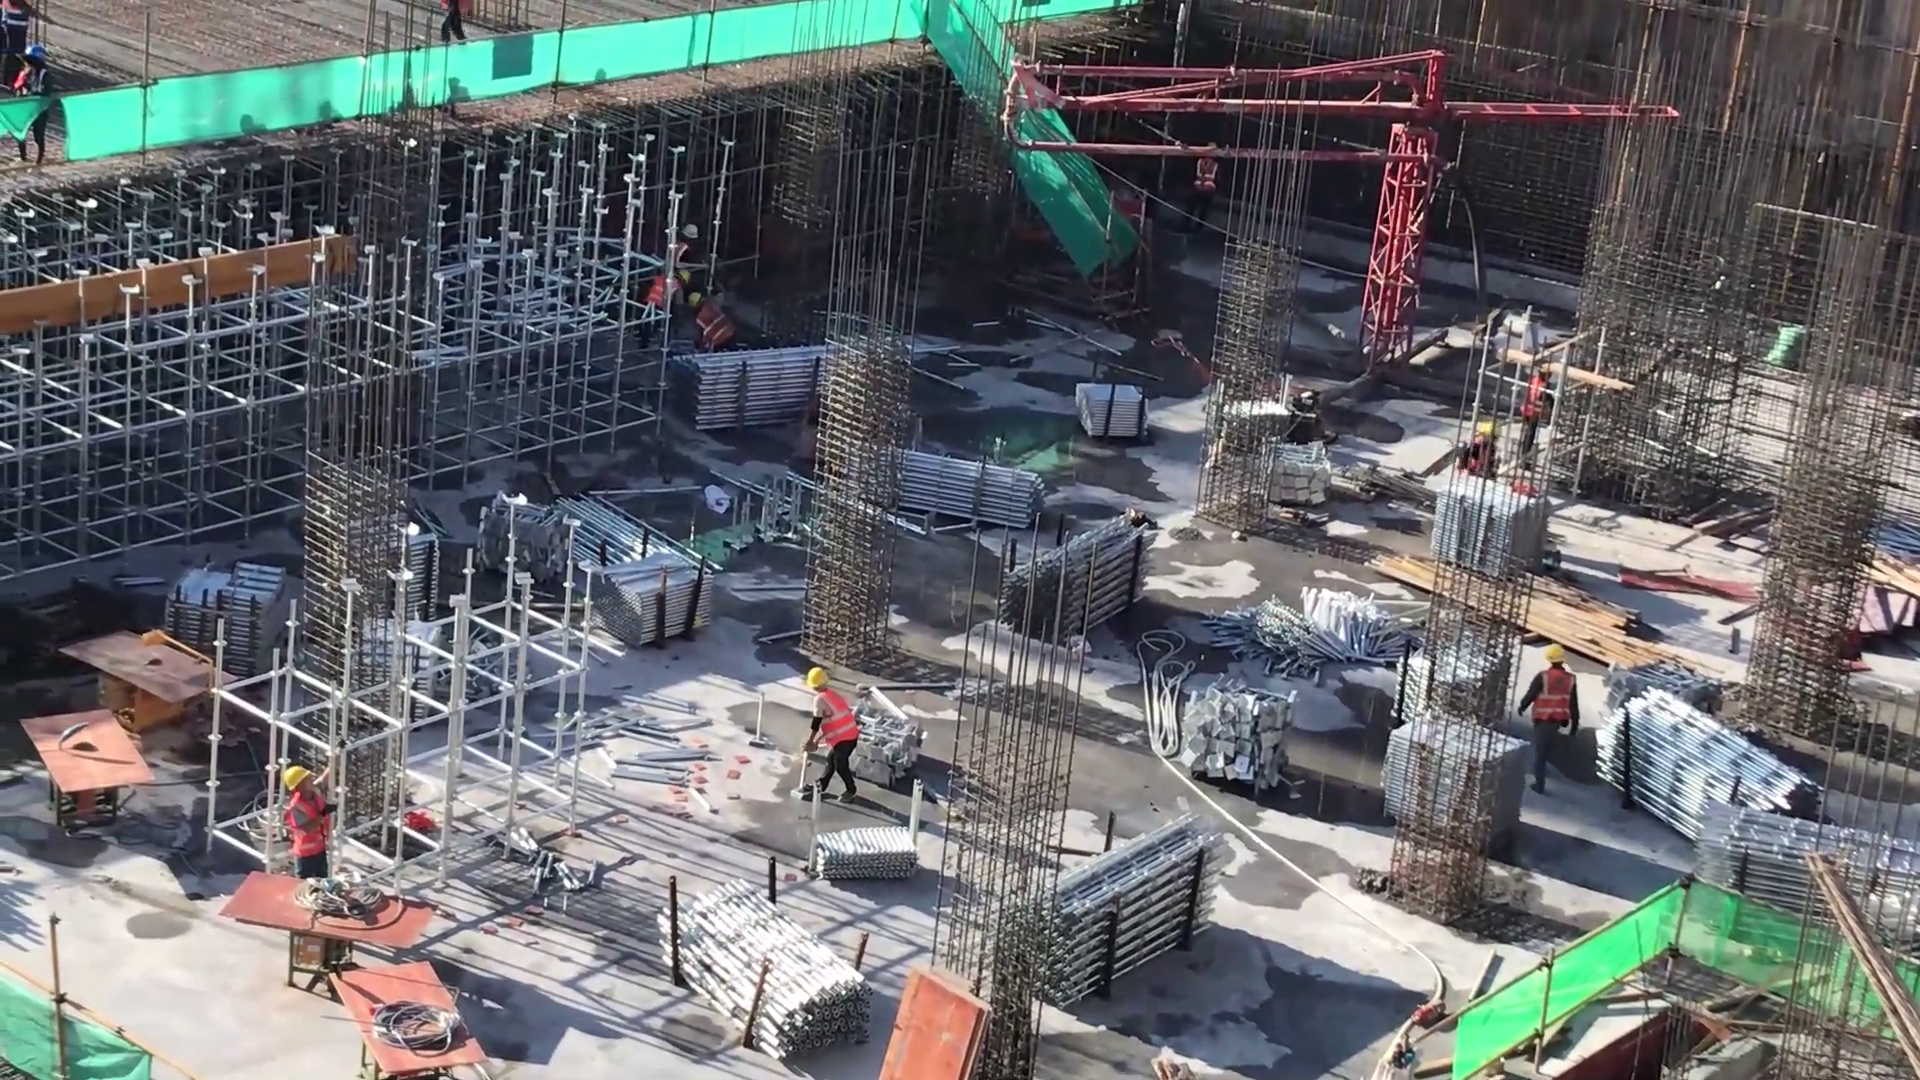board: (863, 959, 990, 1080)
helmet: (282, 755, 312, 791), (802, 662, 828, 696), (1540, 643, 1565, 667)
person: (1516, 639, 1586, 796), (801, 668, 866, 808), (275, 759, 342, 886), (688, 284, 743, 358), (18, 51, 57, 155), (666, 220, 702, 287)
scaffold: (1016, 801, 1220, 1006), (663, 875, 874, 1055), (1589, 684, 1822, 836), (1682, 793, 1920, 909), (543, 502, 717, 646), (998, 520, 1155, 636), (669, 341, 851, 434), (881, 434, 1052, 530), (155, 553, 291, 654), (1424, 472, 1550, 577), (808, 822, 930, 880)
vest: (803, 695, 855, 754), (281, 798, 331, 859), (1536, 672, 1577, 734)
